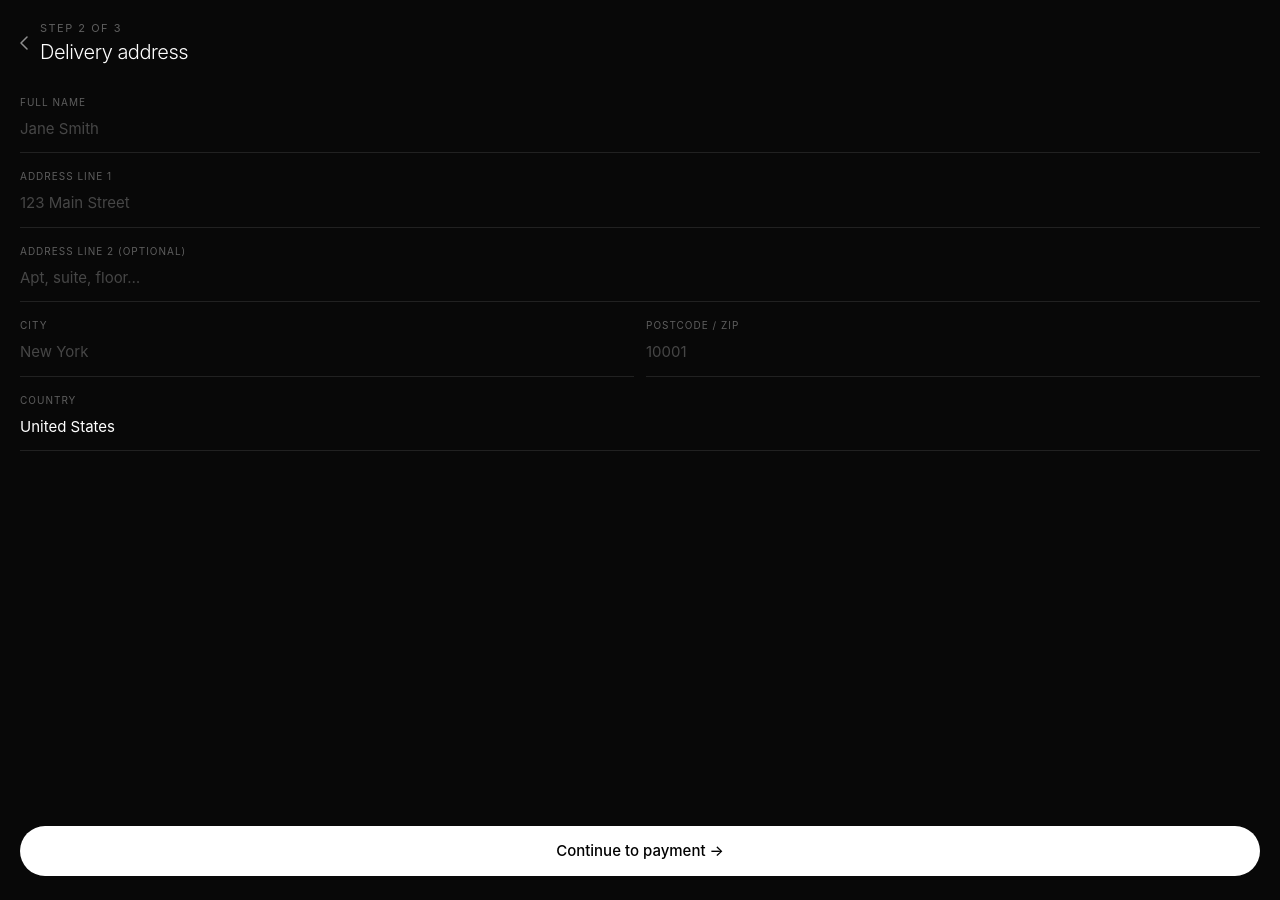
CheckoutAddressScreen › blocks navigation when fields are empty
Click the button with test id "continue-to-payment" at (640, 851), box [20, 826, 1260, 876]
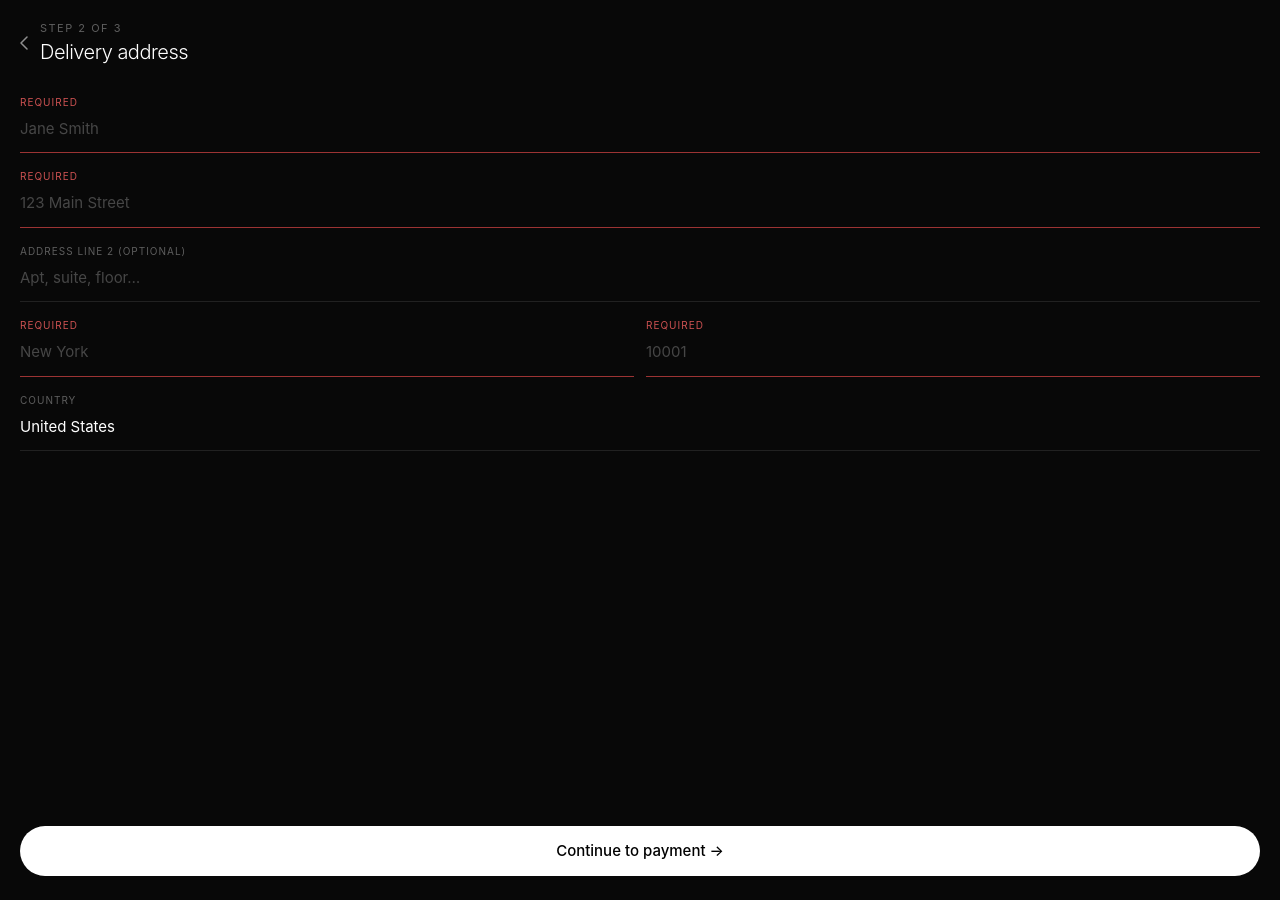
Check: the 1st text "Required" is shown, box [20, 96, 78, 108]
